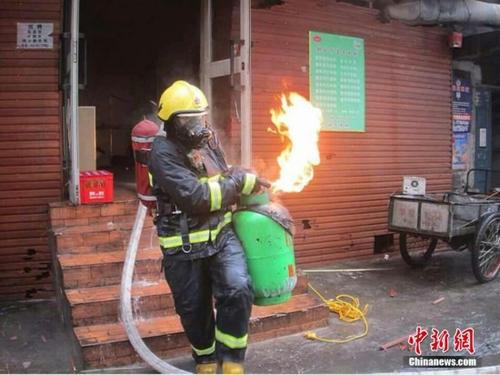fire: (259, 93, 322, 191)
